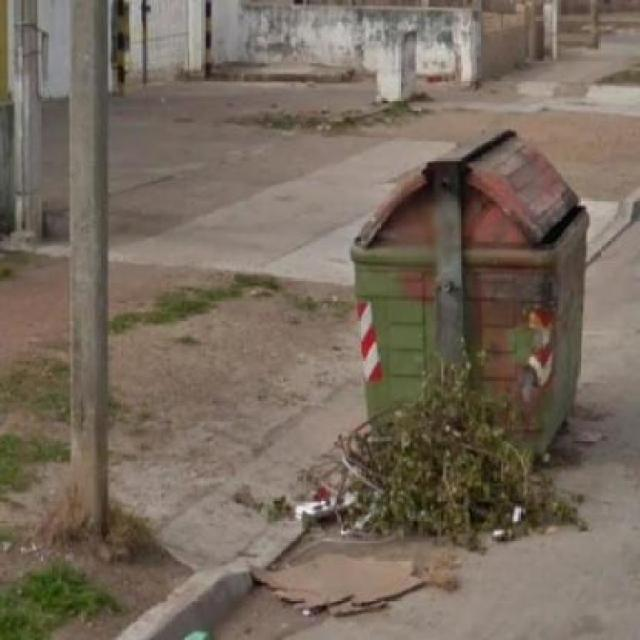garbage: (262, 545, 435, 626), (288, 474, 360, 522)
